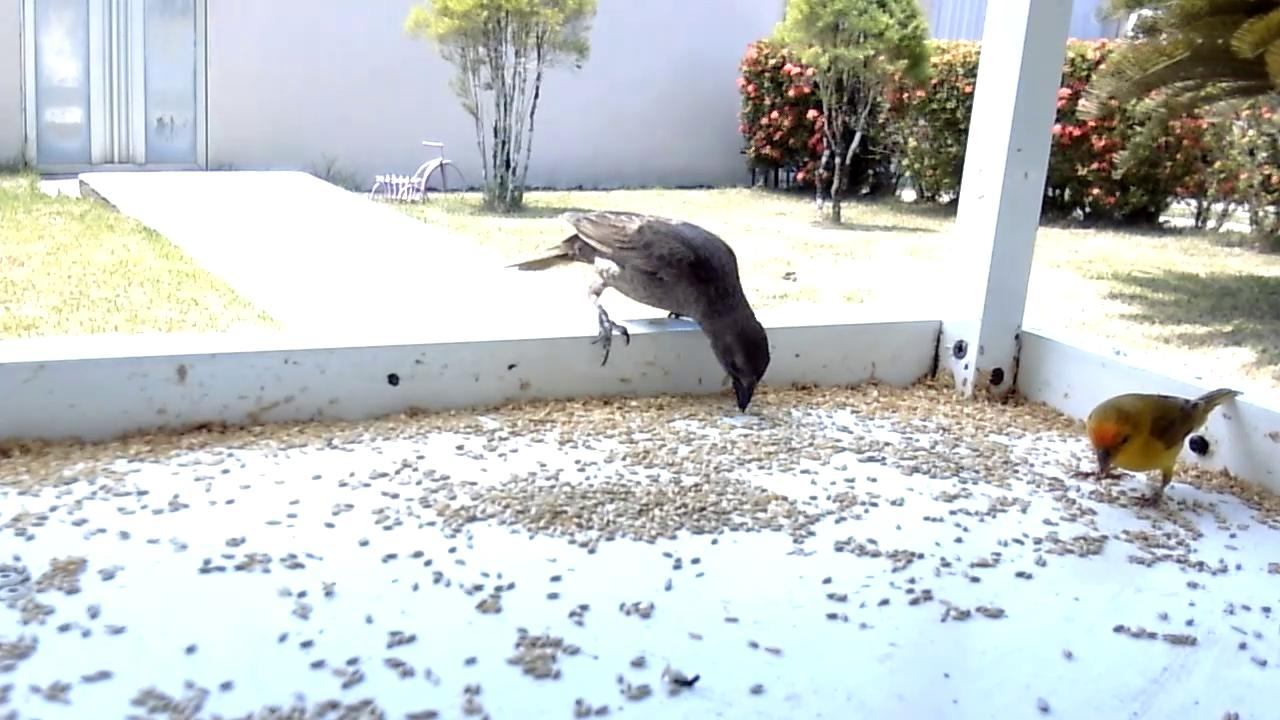canario_do_amazonas: (1064, 385, 1246, 513)
chupim: (502, 208, 775, 417)
